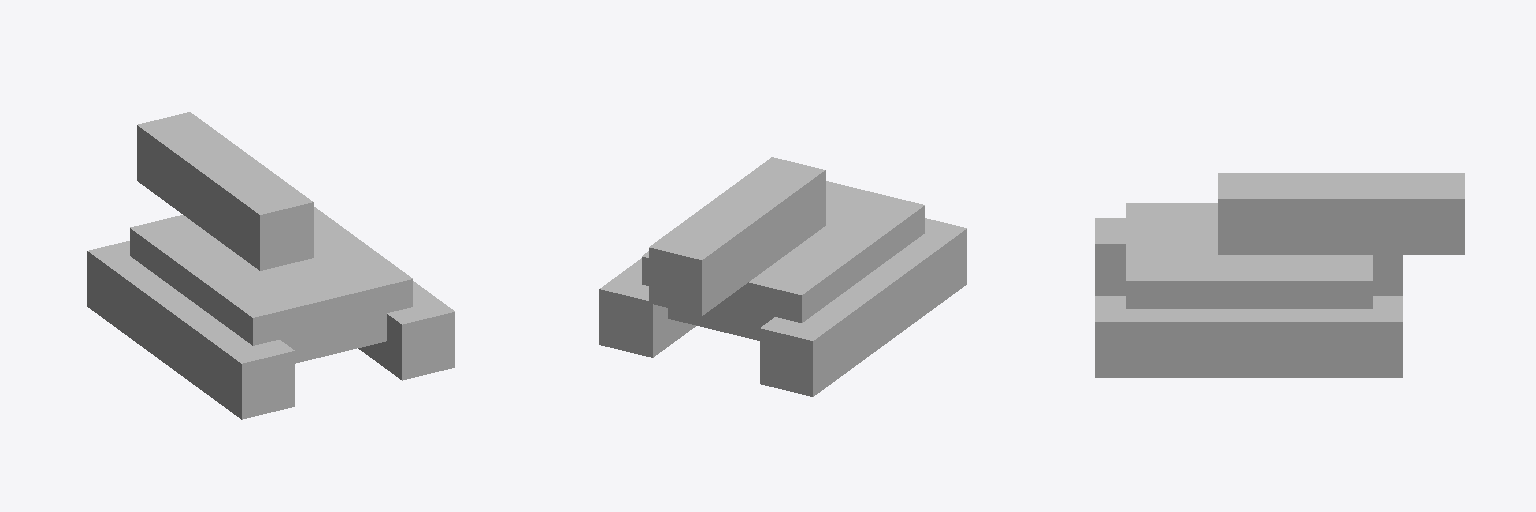
File: wtf.obj
3 renders of one model, left to right at view 1: azimuth 30°, elevation 25°; view 2: azimuth 150°, elevation 25°; view 3: azimuth 270°, elevation 25°, orthographic.
Visible parts, largest first — view 1: cuboid; view 2: cuboid; view 3: cuboid.
Boxes of the visible parts, x1=… form: cuboid: x1=87, y1=112, x2=454, y2=419; cuboid: x1=599, y1=157, x2=966, y2=396; cuboid: x1=1095, y1=173, x2=1464, y2=377.
Size of the model in its own units: 0.5 by 0.3125 by 0.75.